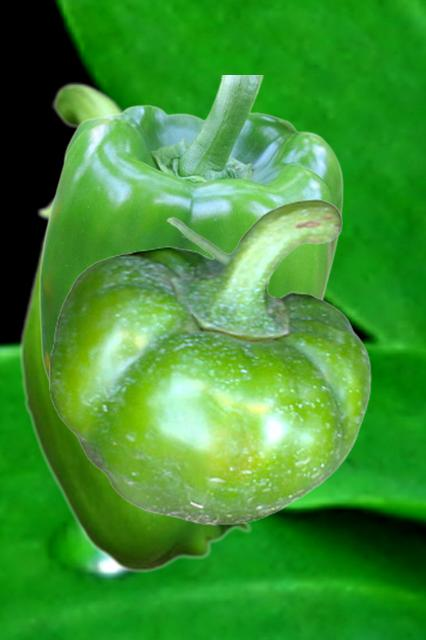bell_pepper: (18, 82, 252, 572), (49, 198, 370, 524), (38, 75, 342, 382)
